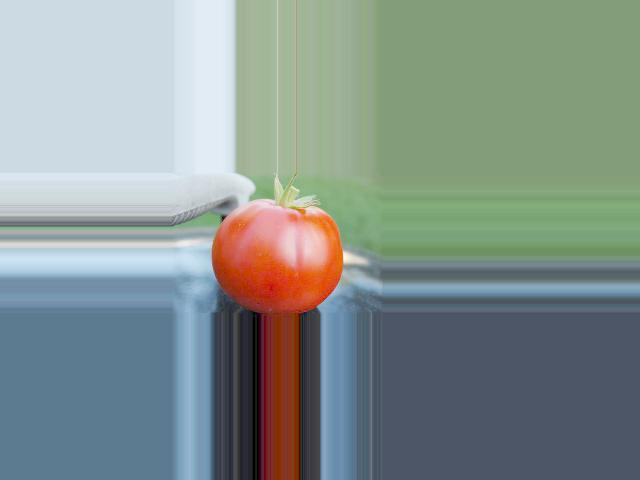tomato: (211, 199, 343, 314)
